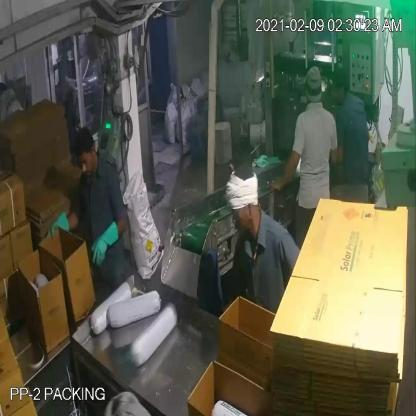glove: (89, 216, 124, 269), (43, 209, 74, 244)
no_glove: (270, 137, 299, 194)
